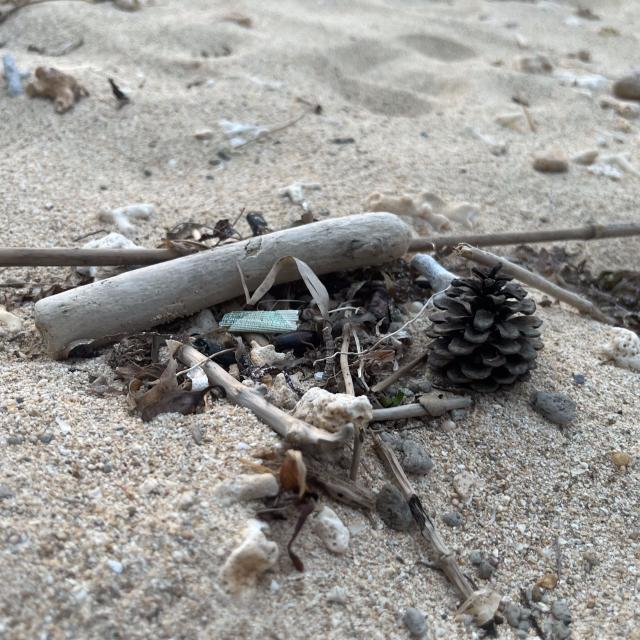pinecone: (420, 260, 549, 396)
stick: (33, 208, 407, 352)
trash: (210, 302, 304, 336)
